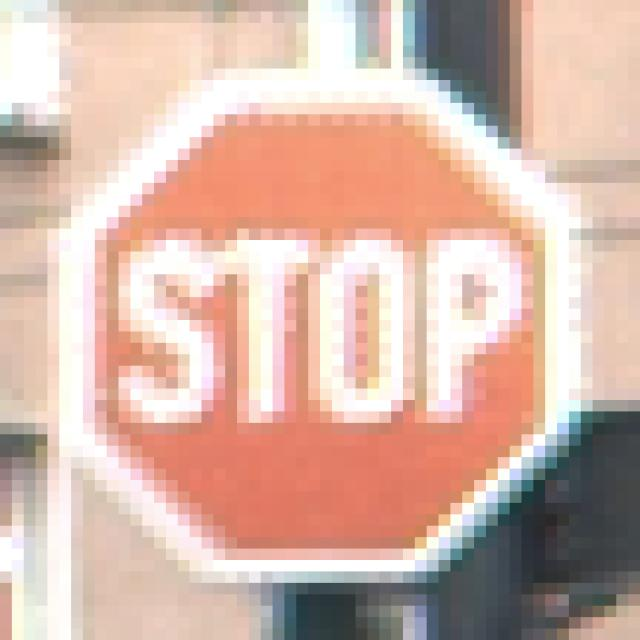STOP: (60, 70, 582, 573)
